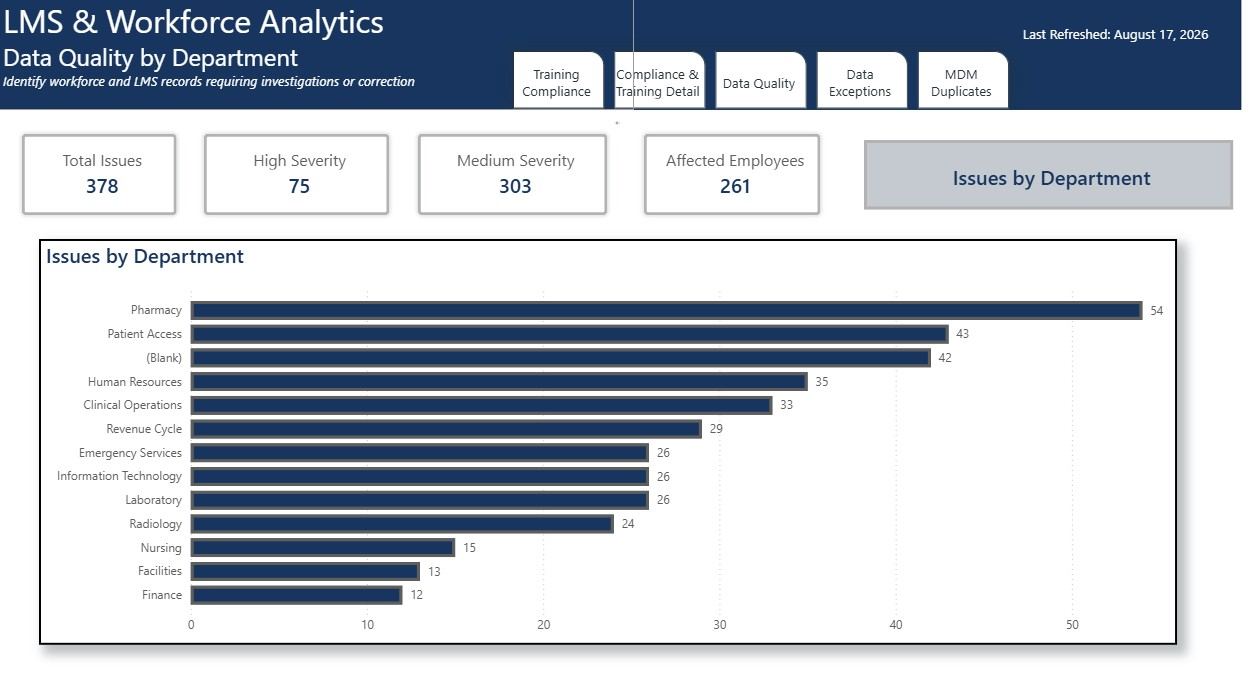

What the dashboard file says about the page in this screenshot:
{"tool":"powerbi","page":{"name":"DQ Department","canvas":[1280,720],"ordinal":3},"visuals":[{"type":"shape","box":[0,0,1253.1,117.6],"z":1000},{"type":"pageNavigator","box":[519.2,58.8,501,58.8],"z":2000},{"type":"cardVisual","fields":{"Data":["vw_DataQualityIssues.Total Data Quality Issues"]},"box":[0,117.6,204,130.4],"z":3000},{"type":"cardVisual","fields":{"Data":["vw_DataQualityIssues.High Severity Issues"]},"box":[183.9,117.6,235.3,130.4],"z":4000},{"type":"cardVisual","fields":{"Data":["vw_DataQualityIssues.Medium Severity Issues"]},"box":[399.1,117.6,239.1,130.4],"z":5000},{"type":"textbox","box":[1028.1,26.9,206.5,31.9],"z":6000},{"type":"textbox","box":[0,0,640.6,117.6],"z":7000},{"type":"cardVisual","fields":{"Data":["vw_DataQualityIssues.Affected Employees"]},"box":[626.6,117.6,226.3,130.4],"z":8000},{"type":"clusteredBarChart","title":"Issues by Department","fields":{"Category":["vw_DataQualityIssues.Department"],"Y":["vw_DataQualityIssues.Total Data Quality Issues"]},"box":[40.9,248,1147,409.2],"z":9000},{"type":"textbox","box":[845.1,117.9,407.2,116.1],"z":10500},{"type":"actionButton","title":"Issues by Department","box":[872.7,147.8,372.3,70.1],"z":11000}]}

Visuals, with their boxes on the page's 1280x720 design canvas (x1, y1, x2, y2). These are canvas units, not pixel positions in the 1254x679 screenshot, which may show the page scaled, cropped or inside an application window:
shape: (0,0,1253,118)
pageNavigator: (519,59,1020,118)
cardVisual - vw_DataQualityIssues.Total Data Quality Issues: (0,118,204,248)
cardVisual - vw_DataQualityIssues.High Severity Issues: (184,118,419,248)
cardVisual - vw_DataQualityIssues.Medium Severity Issues: (399,118,638,248)
textbox: (1028,27,1235,59)
textbox: (0,0,641,118)
cardVisual - vw_DataQualityIssues.Affected Employees: (627,118,853,248)
"Issues by Department" clusteredBarChart: (41,248,1188,657)
textbox: (845,118,1252,234)
"Issues by Department" actionButton: (873,148,1245,218)
